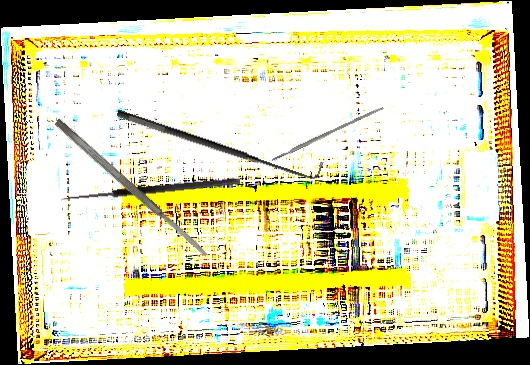Hook Surgical: (115, 93, 324, 188), (60, 176, 242, 213)
Scalpel Handle: (270, 105, 385, 162)
Spatula Surgical: (53, 117, 210, 260)
